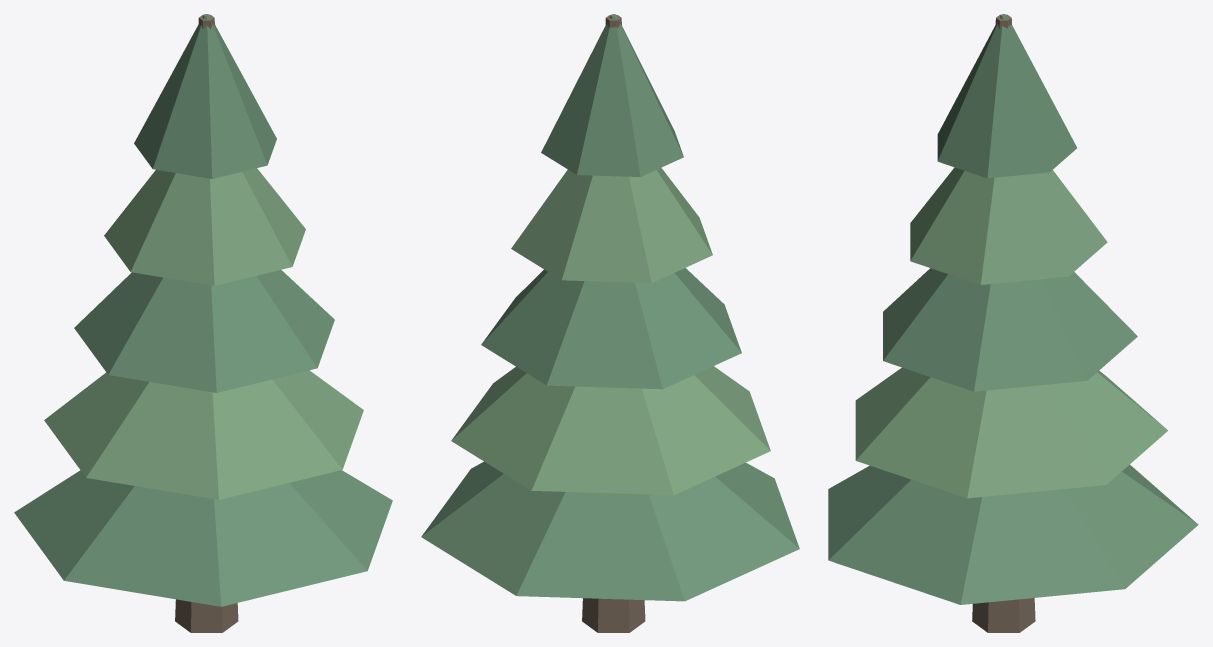
File: pine_v07.glb
3 views of the same model, side by side, from view 1: azimuth 30°, elevation 25°; view 2: azimuth 150°, elevation 25°; view 3: azimuth 270°, elevation 25° (orthographic).
Visible parts, largest first — view 1: lod0; view 2: lod0; view 3: lod0.
Boxes of the visible parts, x1,y1,x2,y2 form: lod0: (14, 14, 392, 632); lod0: (421, 14, 799, 632); lod0: (828, 14, 1198, 632).
Size of what is drawn, in the model's own units: 2.4 by 4.22 by 2.34.
